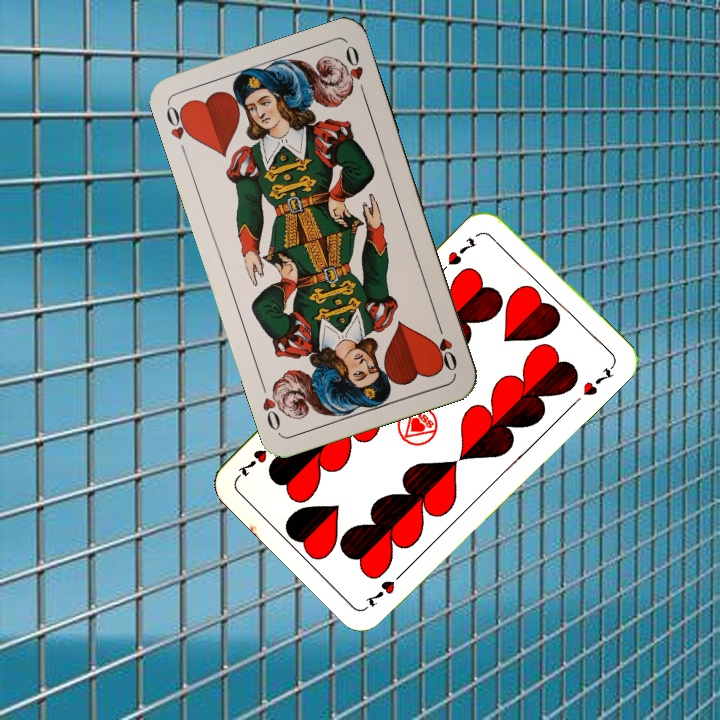H7: (361, 565, 409, 609), (443, 233, 479, 268)
HO: (432, 317, 460, 374), (162, 101, 197, 142)
